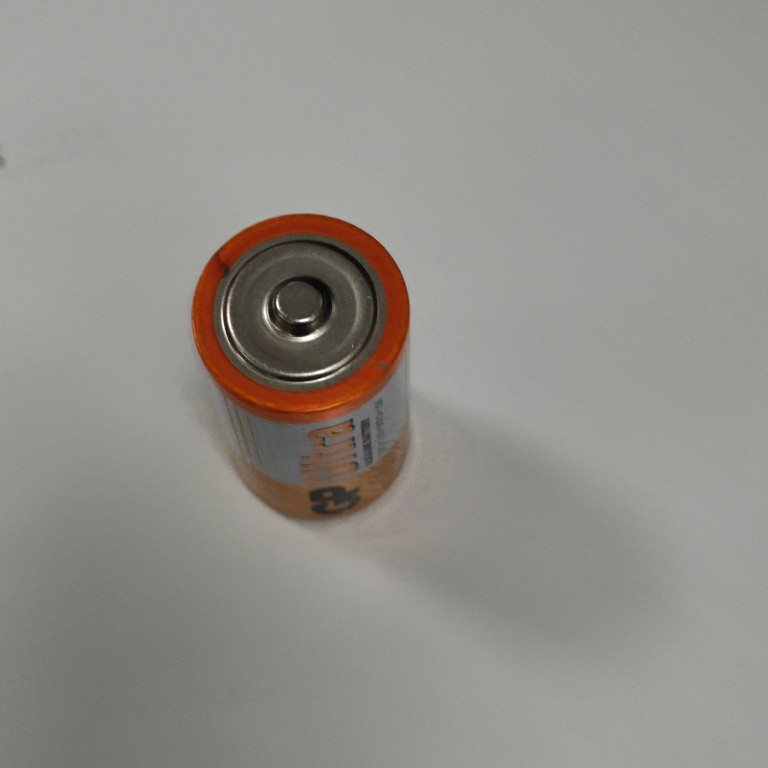charge: (183, 208, 419, 526)
